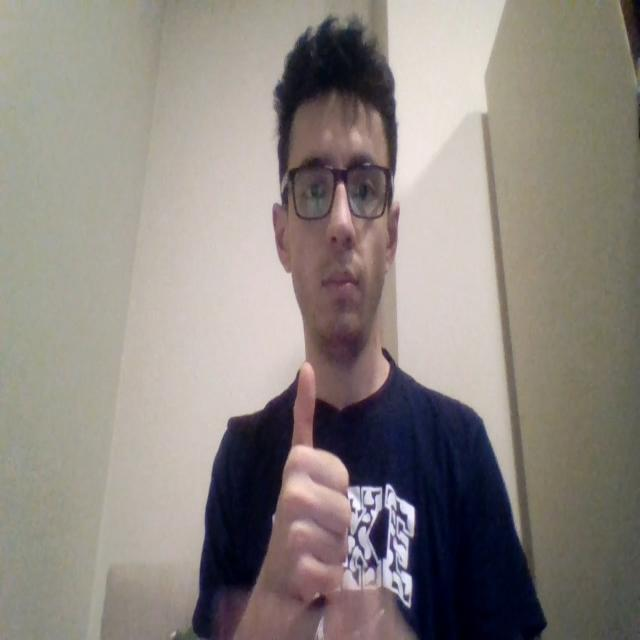help: (233, 361, 396, 640)
